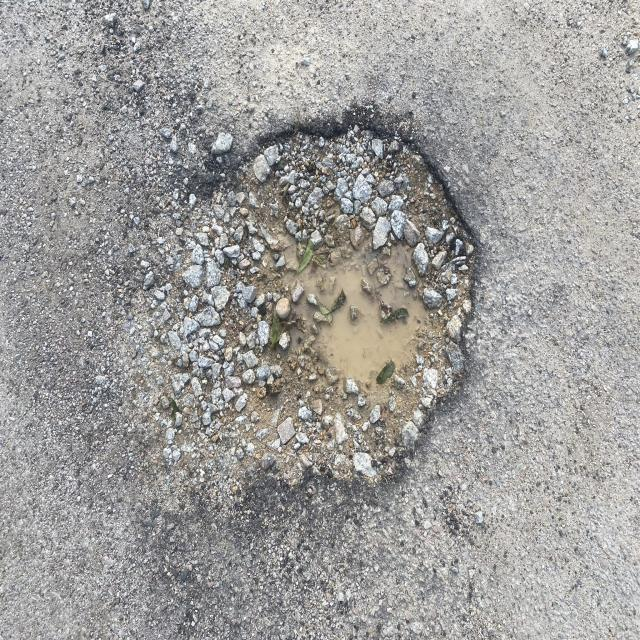pothole: (149, 54, 537, 520)
